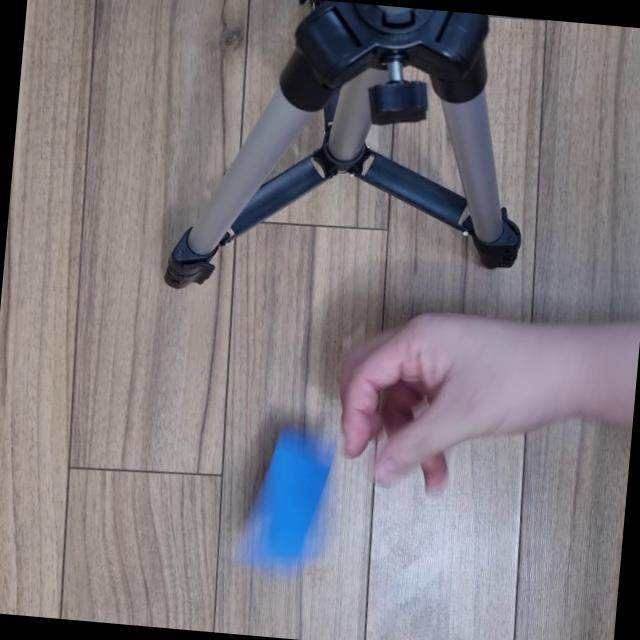block: (230, 410, 350, 580)
hand: (316, 290, 552, 499)
